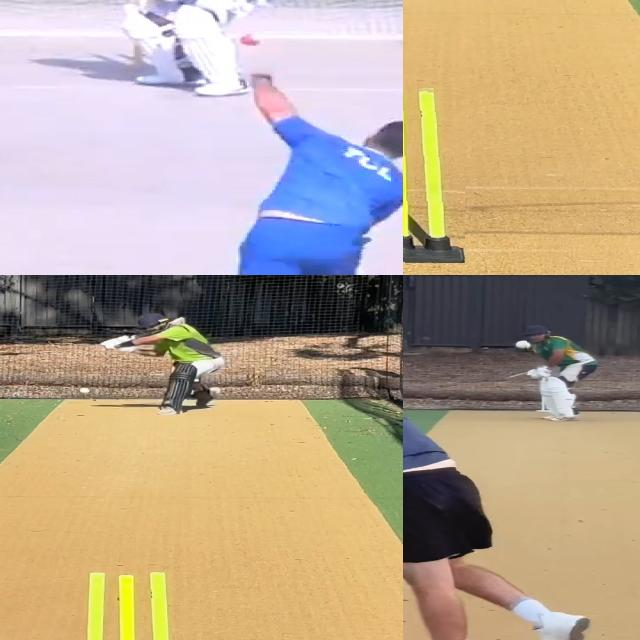Cricket ball: (239, 32, 262, 46), (513, 339, 535, 351), (79, 388, 91, 396)
Stumps: (403, 84, 465, 263), (65, 571, 195, 640)
